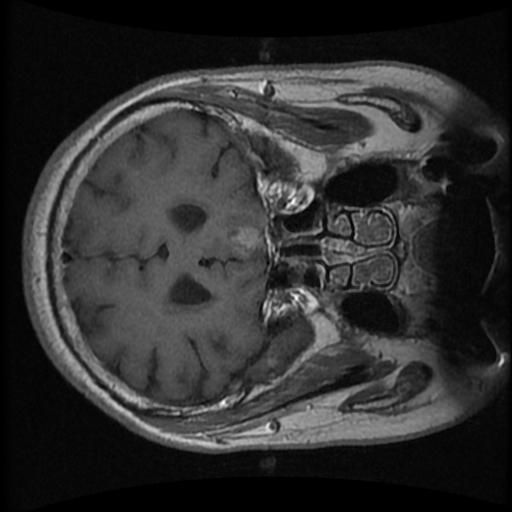pituitary tumour: (228, 224, 265, 252)
